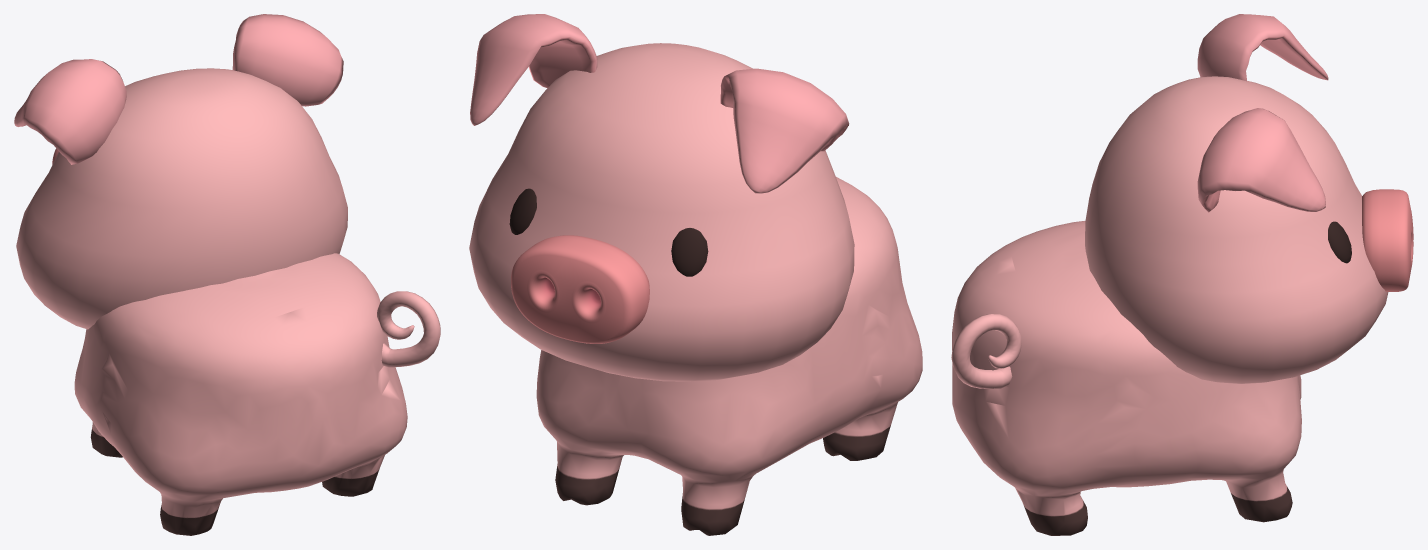
Rendered from piglet-folded.glb.
3 views of the same model, side by side, from view 1: azimuth 30°, elevation 25°; view 2: azimuth 150°, elevation 25°; view 3: azimuth 270°, elevation 25° (orthographic). The views are drawn at different scales.
Visible parts, largest first — view 1: Torso folded, Head folded, Ear.R folded, Ear.L folded, Curled tail folded; view 2: Head folded, Torso folded, Snout folded, Ear.R folded, Ear.L folded, Eye.R folded, Eye.L folded; view 3: Head folded, Torso folded, Ear.L folded, Ear.R folded, Snout folded, Curled tail folded, Eye.L folded.
Part boxes in pixels (left/top/right/bottom): Torso folded: left=74, top=253, right=407, bottom=535; Head folded: left=16, top=68, right=347, bottom=329; Ear.R folded: left=14, top=59, right=126, bottom=164; Ear.L folded: left=232, top=14, right=343, bottom=106; Curled tail folded: left=377, top=291, right=440, bottom=367; Head folded: left=469, top=43, right=854, bottom=381; Torso folded: left=536, top=177, right=922, bottom=535; Snout folded: left=511, top=235, right=649, bottom=343; Ear.R folded: left=720, top=68, right=849, bottom=193; Ear.L folded: left=470, top=14, right=597, bottom=125; Eye.R folded: left=671, top=228, right=708, bottom=276; Eye.L folded: left=509, top=188, right=536, bottom=234; Head folded: left=1085, top=76, right=1388, bottom=383; Torso folded: left=952, top=221, right=1301, bottom=535; Ear.L folded: left=1197, top=108, right=1325, bottom=212; Ear.R folded: left=1197, top=14, right=1328, bottom=81; Snout folded: left=1362, top=189, right=1413, bottom=291; Curled tail folded: left=951, top=314, right=1021, bottom=388; Eye.L folded: left=1328, top=221, right=1351, bottom=263.
Bounding box in the file's own units: 0.8151 × 1 × 1.01.
Materials: 6 (1 with a texture image).
